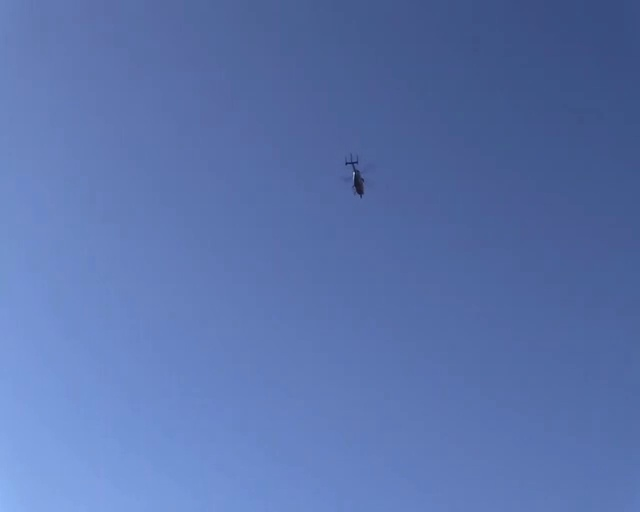HELICOPTER: (342, 152, 372, 198)
